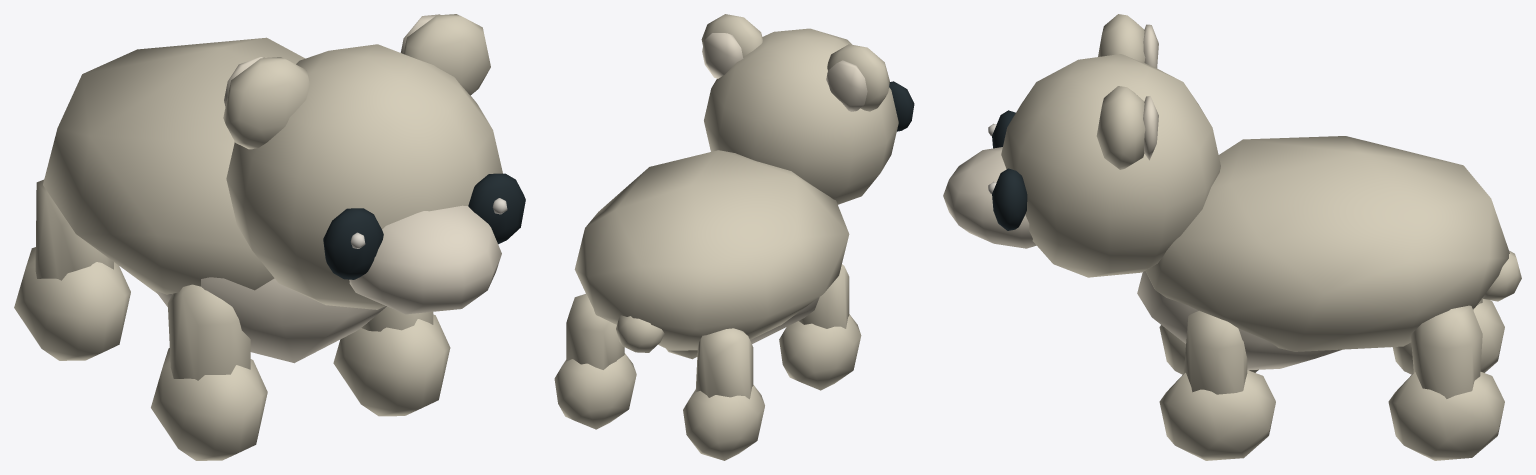
The model's file is org_polarbear.glb.
The picture shows the model from 3 angles, left to right: view 1: azimuth 30°, elevation 25°; view 2: azimuth 150°, elevation 25°; view 3: azimuth 270°, elevation 25°; orthographic projection. The views are drawn at different scales.
Parts seen in each view (by area): view 1: Head, Body, Leg_FR, Leg_BR, Leg_FL, Eye_R, Eye_L; view 2: Body, Head, Leg_BR, Leg_BL, Leg_FR, Tail, Eye_R; view 3: Body, Head, Leg_BL, Leg_FL, Leg_BR, Eye_L, Tail, Leg_FR.
Boxes of the visible parts, x1,y1,x2,y2 form: Head: (223,14,502,314); Body: (43,37,386,363); Leg_FR: (151,284,267,460); Leg_BR: (14,179,130,360); Leg_FL: (333,306,450,416); Eye_R: (323,208,383,279); Eye_L: (468,173,525,244); Body: (574,150,849,350); Head: (701,14,898,204); Leg_BR: (683,328,764,460); Leg_BL: (554,294,636,429); Leg_FR: (779,264,861,390); Tail: (616,315,664,352); Eye_R: (889,81,914,131); Body: (1137,136,1509,370); Head: (943,14,1220,277); Leg_BL: (1388,305,1504,460); Leg_FL: (1159,310,1275,460); Leg_BR: (1392,299,1504,374); Eye_L: (988,168,1027,230); Tail: (1482,250,1521,301); Leg_FR: (1159,325,1258,374).
Size of the model in its own units: 0.8039 by 1.05 by 1.5.
